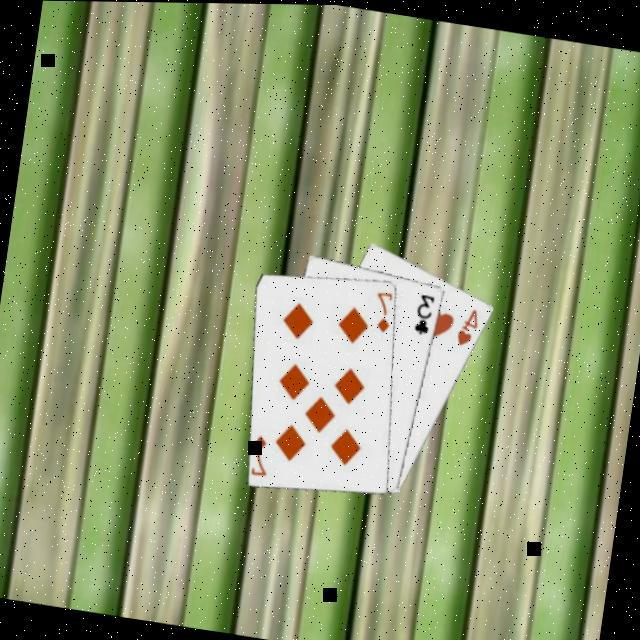3C: (408, 288, 436, 338)
4H: (450, 304, 482, 349)
7D: (245, 431, 273, 480), (367, 288, 395, 336)
